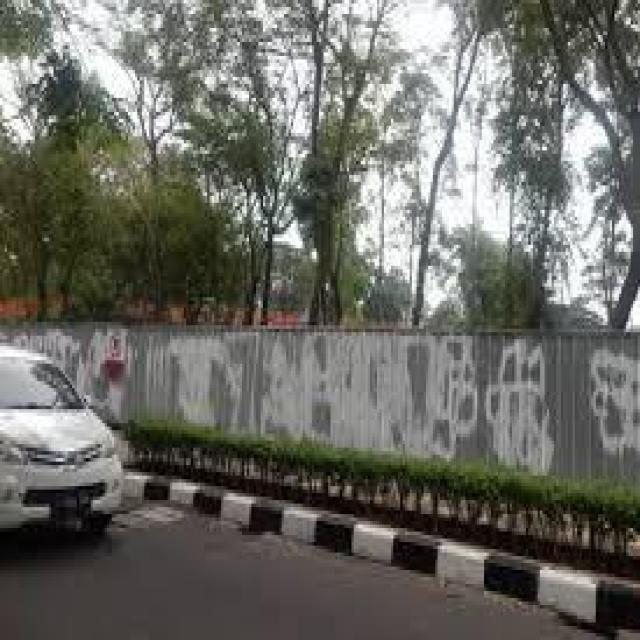nonspitting: (165, 325, 477, 460), (11, 328, 136, 416), (486, 336, 556, 482), (586, 346, 640, 454)
